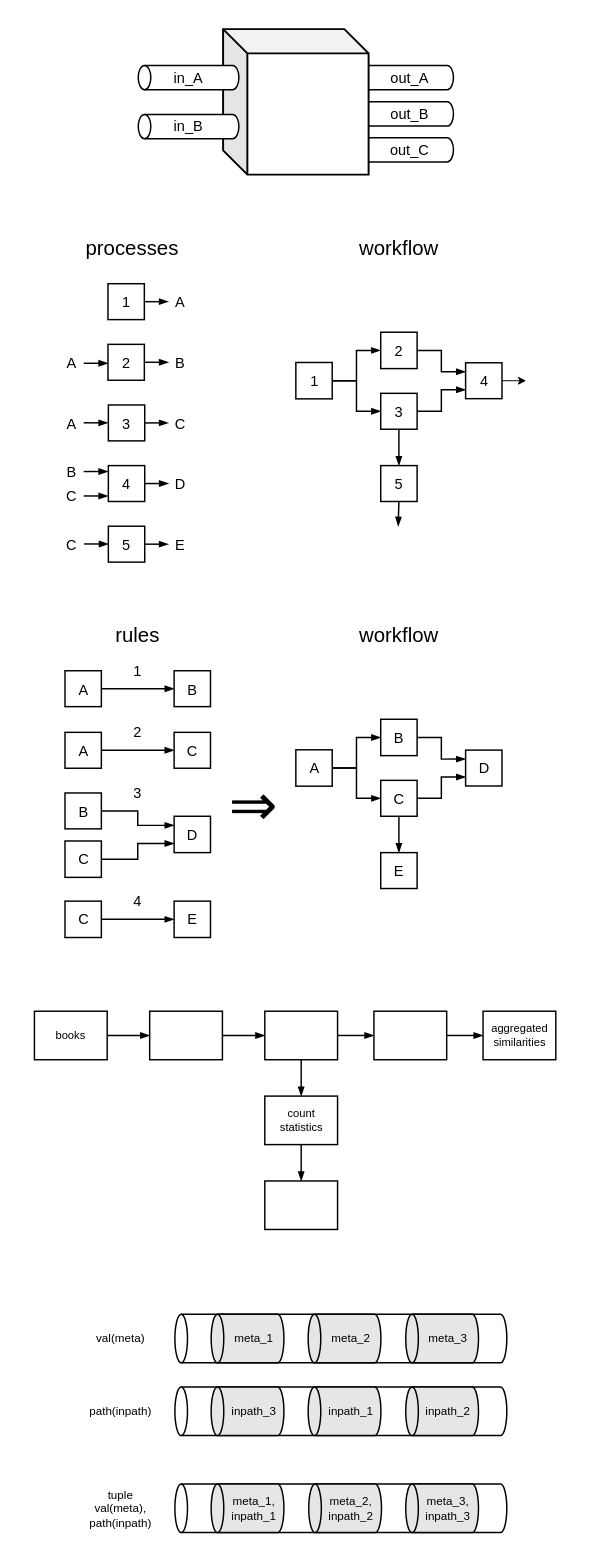
This 591x1561 diagram has some shape labels left out. Here are the shapes that lost their labels. From the top down, the box of each, then its label:
(222, 28, 369, 175): process
(149, 1010, 223, 1060): cleaned books
(264, 1010, 338, 1060): word counts
(373, 1010, 447, 1060): pairwise similarities
(264, 1180, 338, 1230): aggregated statistics
